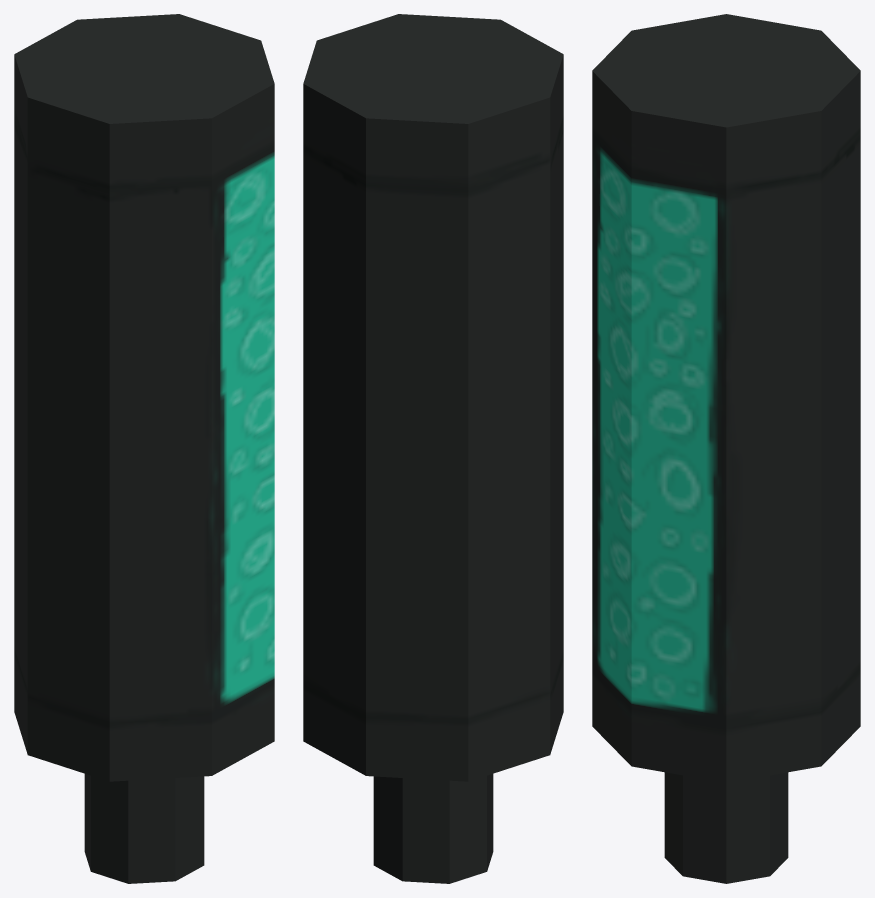
Rendered from CyberTree_Energy.fbx.
3 renders of one model, left to right at view 1: azimuth 30°, elevation 25°; view 2: azimuth 150°, elevation 25°; view 3: azimuth 270°, elevation 25°, orthographic.
Visible parts, largest first — view 1: Machine_Energy; view 2: Machine_Energy; view 3: Machine_Energy.
Boxes of the visible parts, x1,y1,x2,y2 form: Machine_Energy: (14, 14, 274, 883); Machine_Energy: (303, 14, 563, 883); Machine_Energy: (592, 14, 860, 883).
Size of the model in its own units: 26.36 by 26.36 by 85.23.
Materials: 1 (1 with a texture image).
